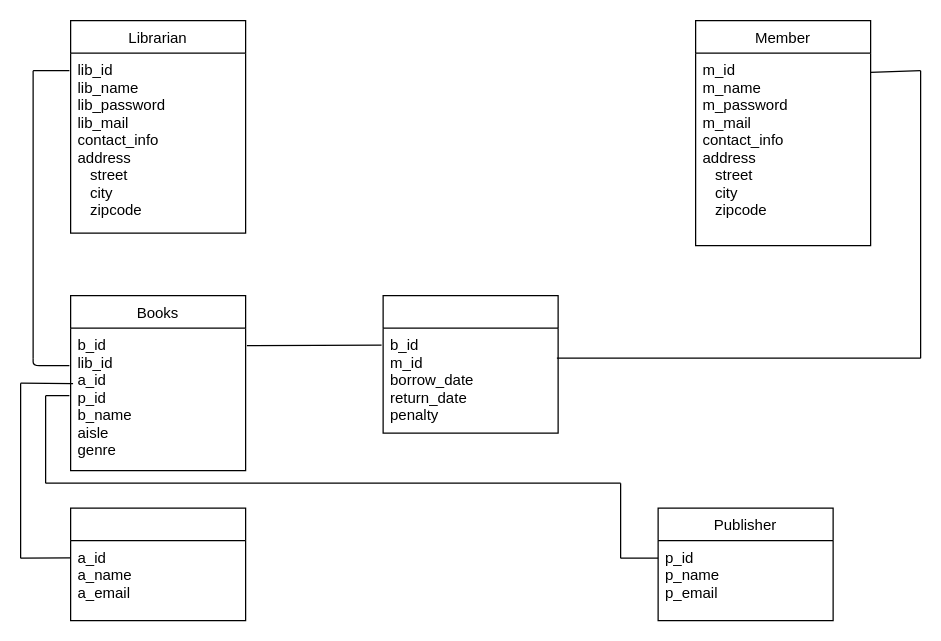
Some shapes in this 941 by 641 pixel diagram are drawn without their labels. Here are the shapes that lost their labels. From the top down, the box of each, then its label:
(382, 294, 558, 433): Borrows
(69, 507, 246, 621): Author
